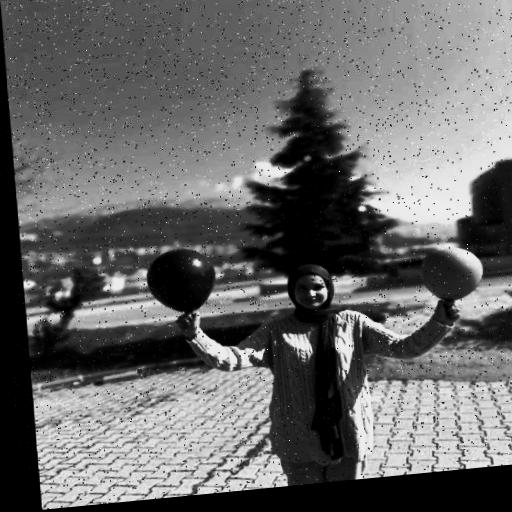balloon: (139, 246, 221, 319), (416, 241, 484, 301)
